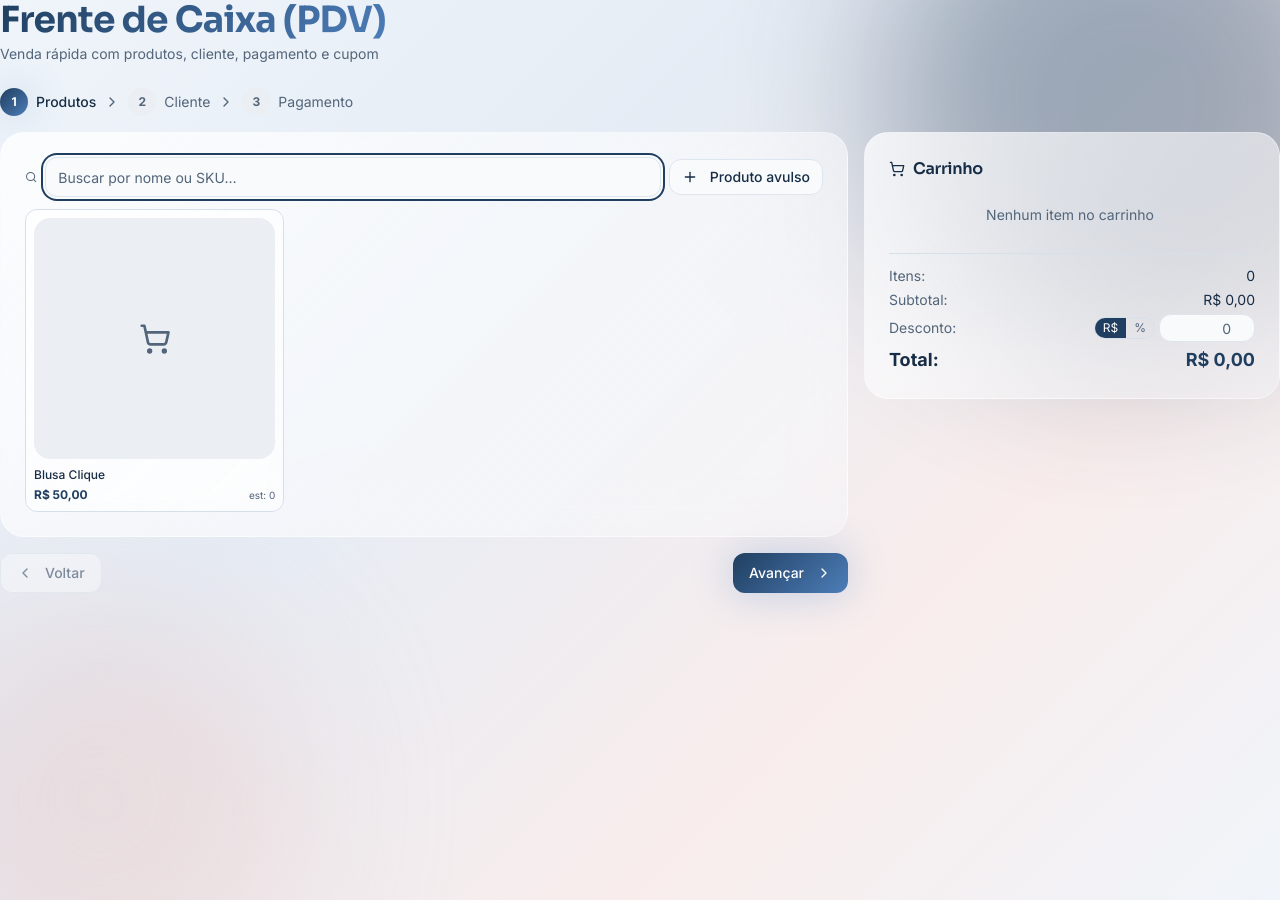
Test: PDV — venda na carteira até o banco › cadastro rápido de cliente já deixa a cliente escolhida
Step 1. Click the button "Blusa Clique R$ 50,00 est: 0" → x=155, y=361, box [25,209,284,512]
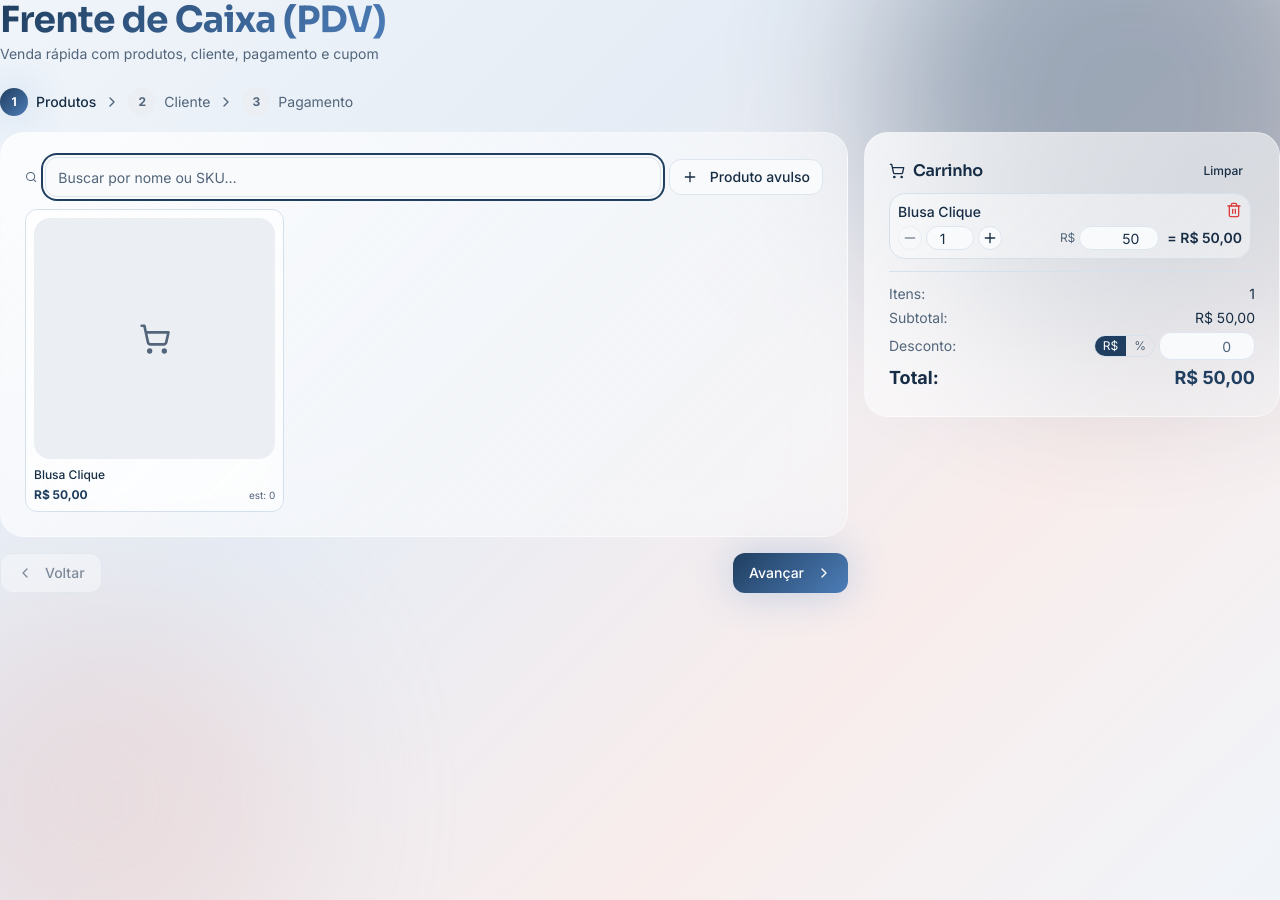
Step 2. Click the button "Avançar" → x=791, y=573, box [733,553,848,593]
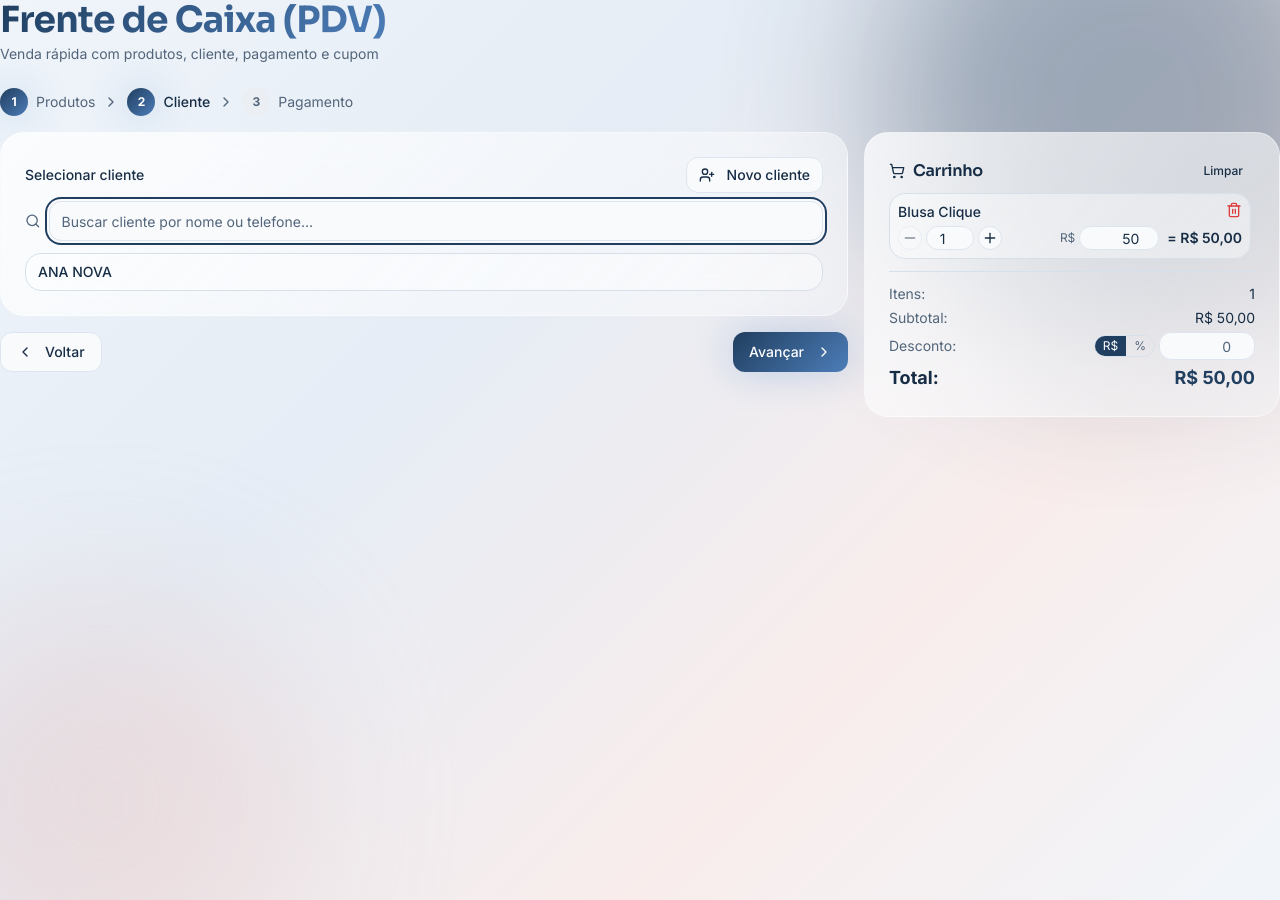
Step 3. Click the button "Novo cliente" → x=754, y=175, box [686,157,823,193]
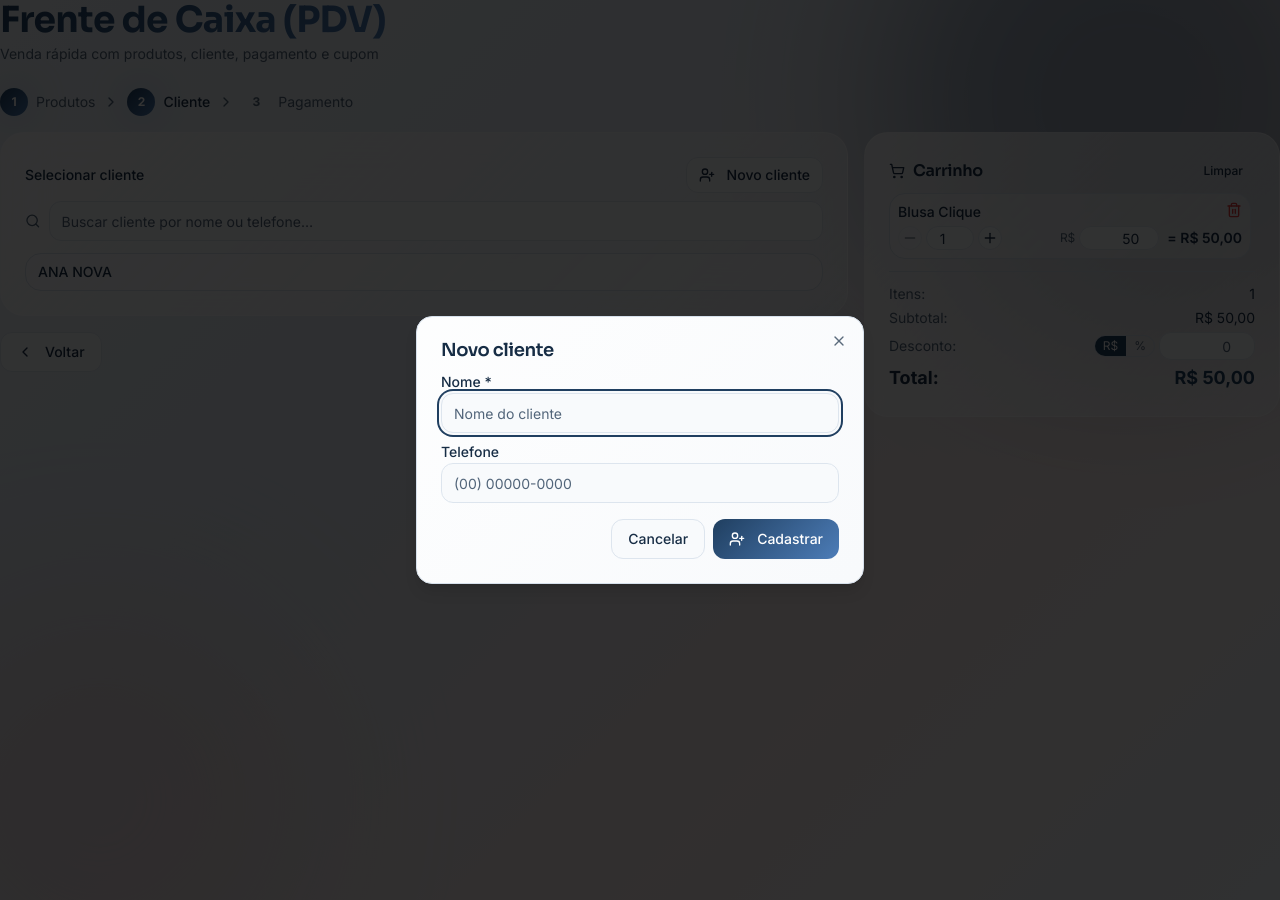
Step 4. Type "Ana Nova" into the field with placeholder "Nome do cliente" → x=640, y=413, box [441,393,839,433]
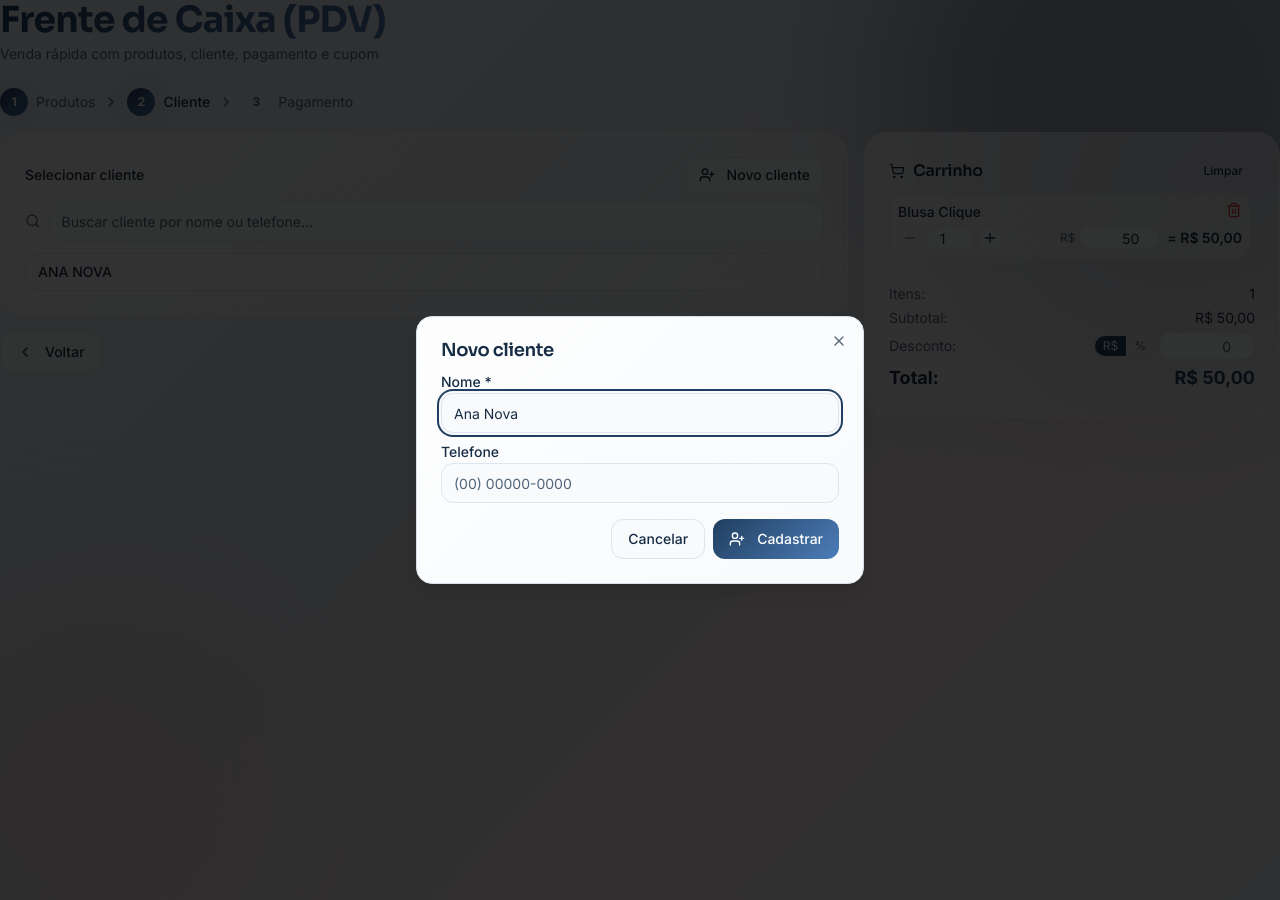
Step 5. Click the button "Cadastrar" → x=776, y=539, box [713,519,839,559]
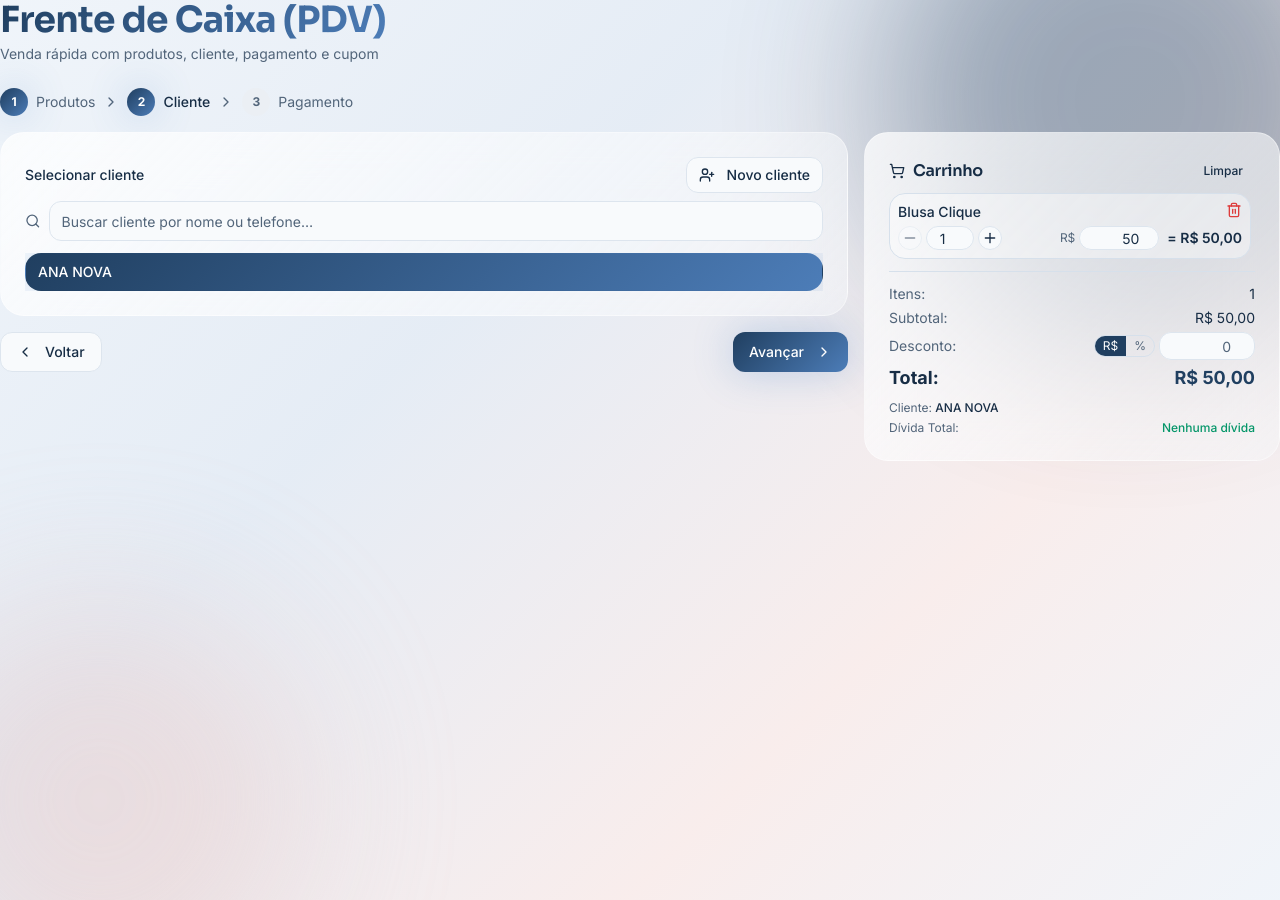
Result: the text "ANA NOVA" next to "Cliente:" is shown at [935,400,999,415]
